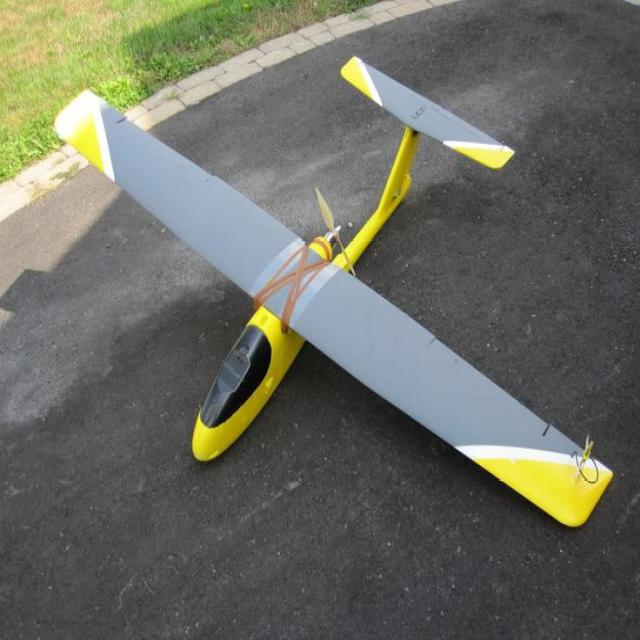iha: (53, 54, 612, 533)
